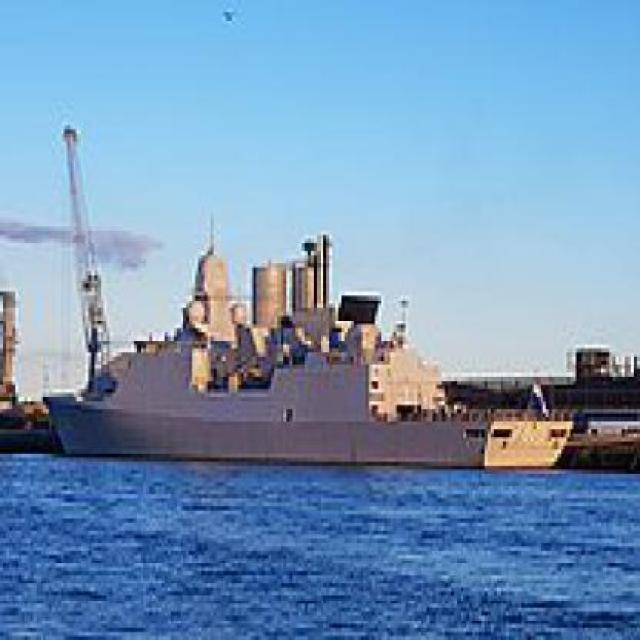warship2: (68, 212, 589, 487)
